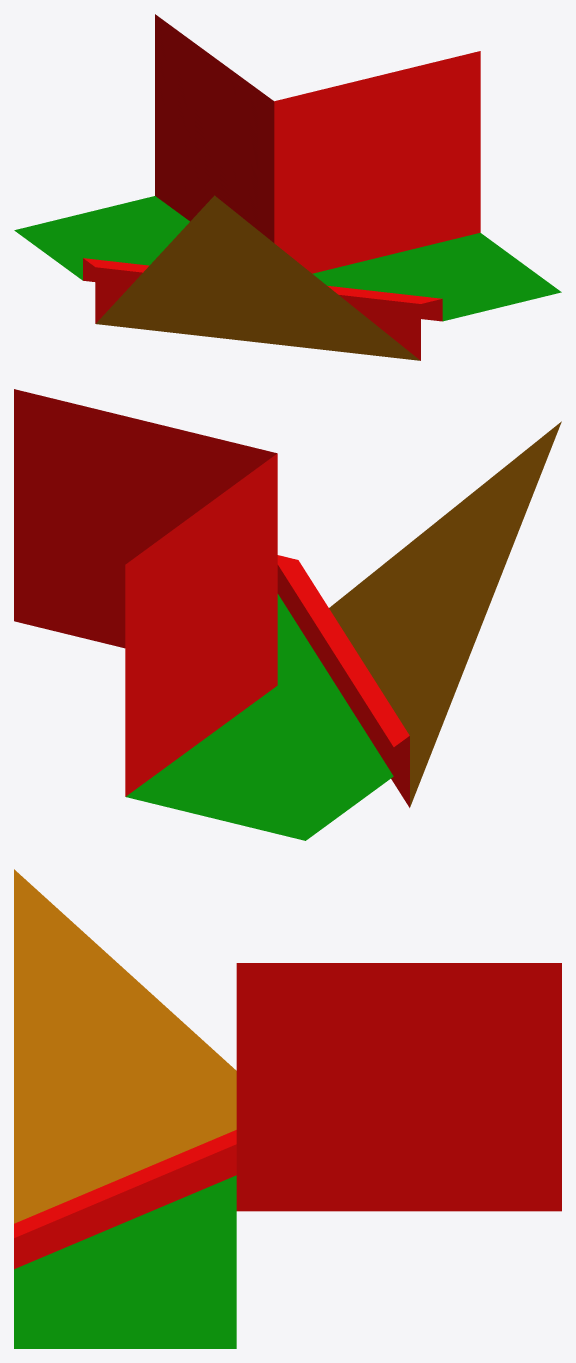
The picture shows the model from 3 angles, top to bottom: view 1: azimuth 30°, elevation 25°; view 2: azimuth 150°, elevation 25°; view 3: azimuth 270°, elevation 25°; orthographic projection. The views are drawn at different scales.
Visible parts, largest first — view 1: None_A_W_A_E_W_S_E_E_None; view 2: None_A_W_A_E_W_S_E_E_None; view 3: None_A_W_A_E_W_S_E_E_None.
Boxes of the visible parts, x1,y1,x2,y2 form: None_A_W_A_E_W_S_E_E_None: [14, 14, 561, 360]; None_A_W_A_E_W_S_E_E_None: [14, 389, 561, 840]; None_A_W_A_E_W_S_E_E_None: [14, 869, 561, 1348].
Size of the model in its own units: 100 by 59.38 by 100.
